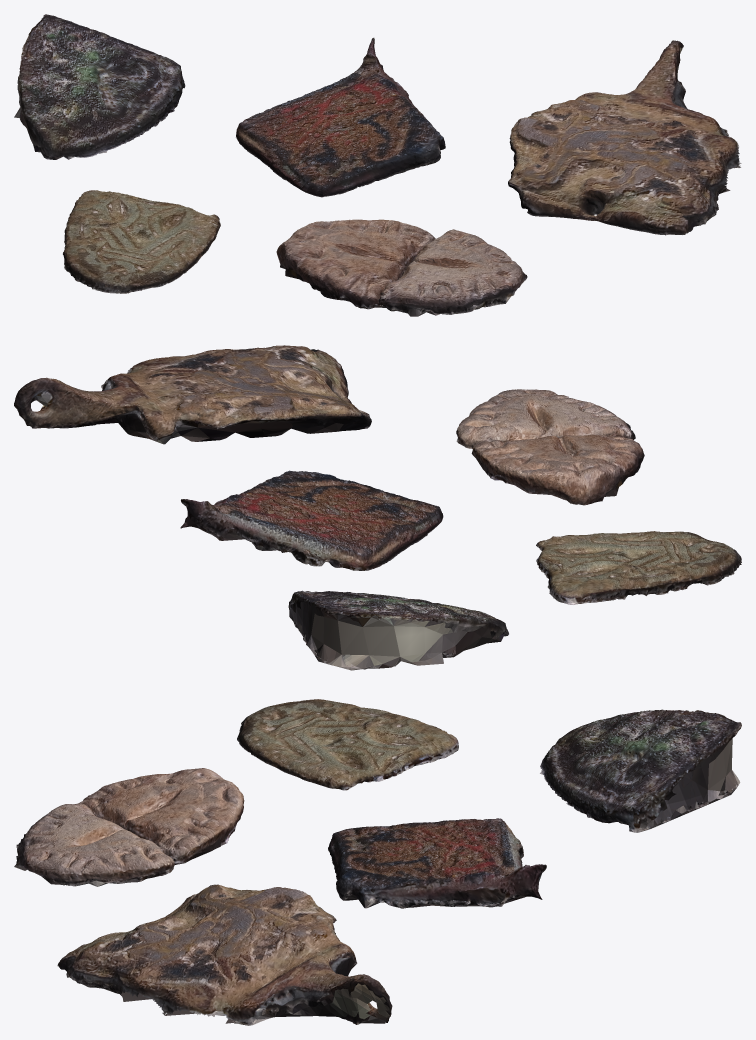
Rendered from Pendants_new.fbx.
The picture shows the model from 3 angles, top to bottom: view 1: azimuth 30°, elevation 25°; view 2: azimuth 150°, elevation 25°; view 3: azimuth 270°, elevation 25°; orthographic projection. The views are drawn at different scales.
Visible parts, largest first — view 1: Pendants_new; view 2: Pendants_new; view 3: Pendants_new.
Part boxes in pixels (box(x1,y1,x2,y2)): Pendants_new: box(14, 14, 741, 316); Pendants_new: box(14, 345, 741, 670); Pendants_new: box(14, 699, 741, 1025).
Size of the model in its own units: 39.55 by 4.8 by 43.85.
Materials: 1 (1 with a texture image).
